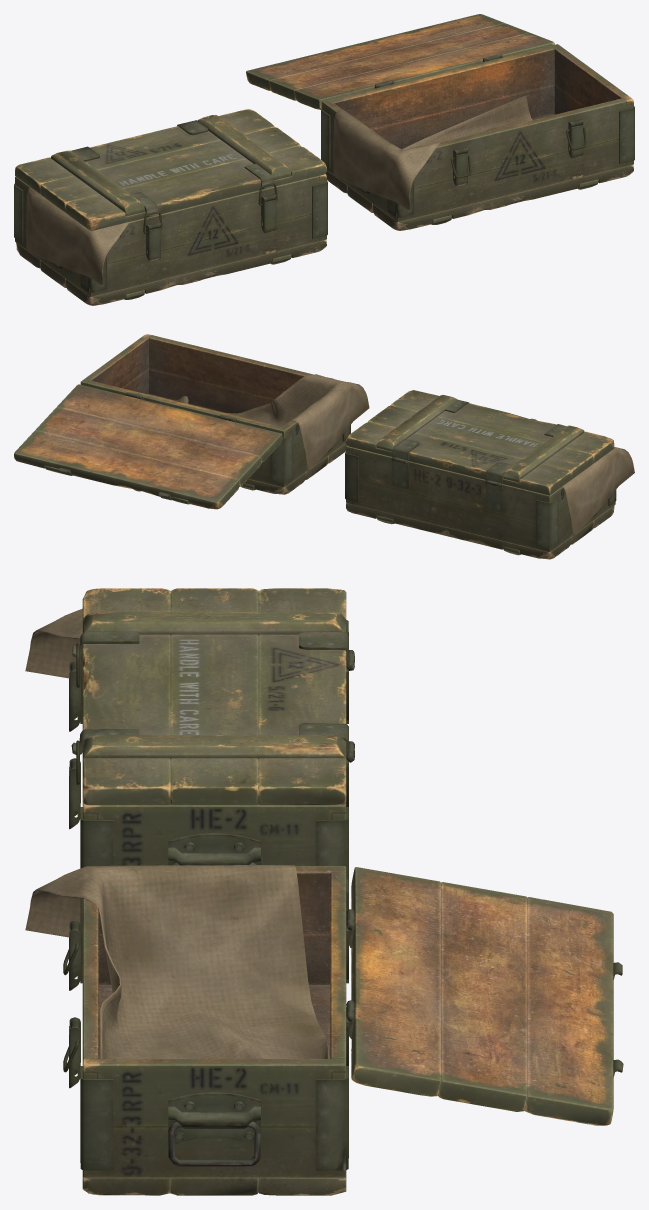
Rendered from old_military_crate.glb.
The picture shows the model from 3 angles, top to bottom: view 1: azimuth 30°, elevation 25°; view 2: azimuth 150°, elevation 25°; view 3: azimuth 270°, elevation 25°; orthographic projection. The views are drawn at different scales.
Visible parts, largest first — view 1: old_military_crate_b, old_military_crate_lid_a, old_military_crate_a, old_military_crate_lid_b, old_military_crate_cloth_b, old_military_crate_cloth_a, old_military_crate_latch_a, old_military_crate_latch_b; view 2: old_military_crate_lid_b, old_military_crate_lid_a, old_military_crate_a, old_military_crate_b, old_military_crate_cloth_b, old_military_crate_cloth_a; view 3: old_military_crate_lid_a, old_military_crate_lid_b, old_military_crate_b, old_military_crate_cloth_b, old_military_crate_a, old_military_crate_cloth_a, old_military_crate_latch_b, old_military_crate_latch_a.
Boxes of the visible parts, x1,y1,x2,y2 form: old_military_crate_b: [321, 44, 634, 230]; old_military_crate_lid_a: [15, 109, 326, 230]; old_military_crate_a: [14, 174, 327, 305]; old_military_crate_lid_b: [246, 14, 554, 109]; old_military_crate_cloth_b: [333, 95, 532, 209]; old_military_crate_cloth_a: [26, 187, 129, 284]; old_military_crate_latch_a: [146, 194, 276, 261]; old_military_crate_latch_b: [453, 119, 583, 186]; old_military_crate_lid_b: [14, 384, 282, 509]; old_military_crate_lid_a: [346, 390, 614, 495]; old_military_crate_a: [345, 446, 616, 559]; old_military_crate_b: [80, 334, 350, 494]; old_military_crate_cloth_b: [174, 374, 369, 470]; old_military_crate_cloth_a: [562, 447, 634, 535]; old_military_crate_lid_a: [71, 588, 354, 805]; old_military_crate_lid_b: [346, 867, 623, 1125]; old_military_crate_b: [80, 866, 354, 1195]; old_military_crate_cloth_b: [25, 865, 328, 1058]; old_military_crate_a: [80, 620, 354, 890]; old_military_crate_cloth_a: [25, 608, 82, 678]; old_military_crate_latch_b: [69, 920, 80, 1088]; old_military_crate_latch_a: [69, 661, 80, 829].
Bounding box in the file's own units: 1.82 × 0.3009 × 0.9757.
1 material, 1 textured.
